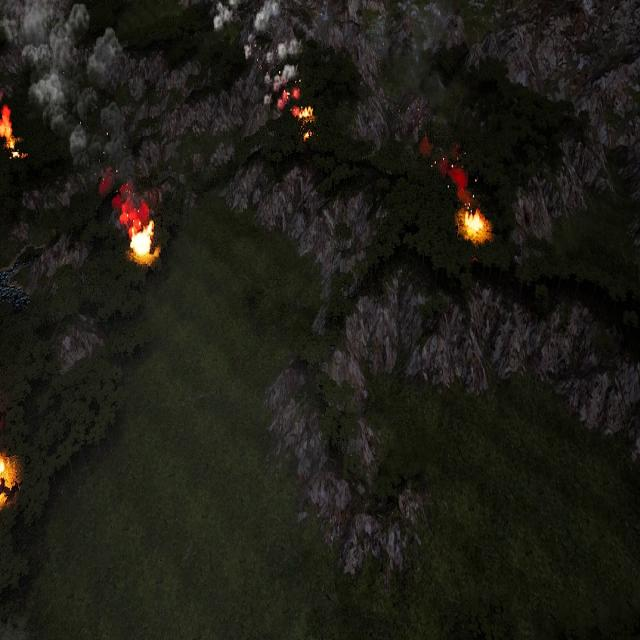fire: (125, 216, 158, 263), (459, 207, 488, 242), (0, 454, 17, 506), (298, 102, 314, 144), (0, 107, 13, 150)
smoke: (0, 0, 128, 162), (215, 0, 302, 112), (422, 131, 470, 204), (99, 168, 146, 234)
